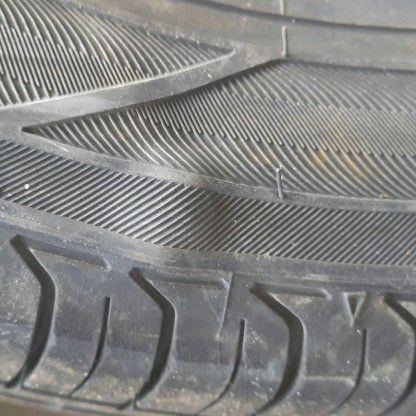CBU: (119, 153, 230, 267)
